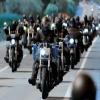motorcycles: (34, 39, 56, 99), (4, 27, 24, 75), (66, 30, 80, 71)
